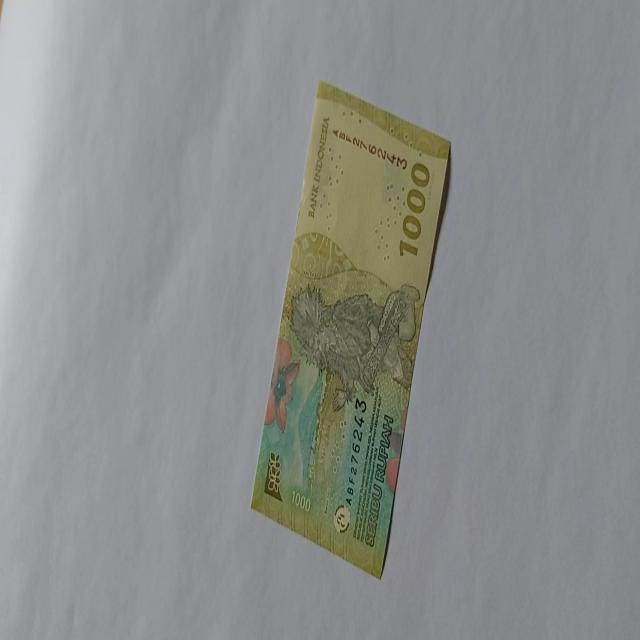seribu rupiah kertas: (248, 78, 452, 580)
